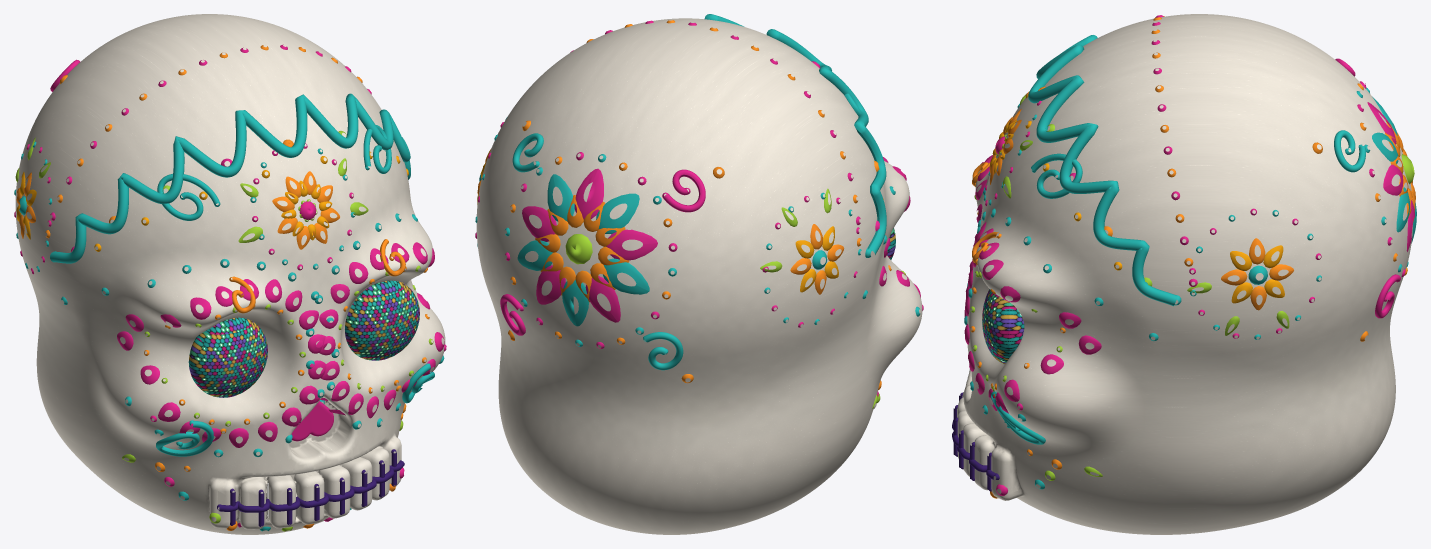
File: sugar_skull_hero.glb
3 renders of one model, left to right at view 1: azimuth 30°, elevation 25°; view 2: azimuth 150°, elevation 25°; view 3: azimuth 270°, elevation 25°, orthographic. The views are drawn at different scales.
Parts seen in each view (by area): view 1: sugar_skull_hero; view 2: sugar_skull_hero; view 3: sugar_skull_hero.
Boxes of the visible parts, box(x1,y1,x2,y2) form: sugar_skull_hero: box(14, 14, 446, 534); sugar_skull_hero: box(475, 14, 923, 534); sugar_skull_hero: box(952, 14, 1416, 534).
Size of the model in its own units: 0.1634 by 0.2 by 0.1802.
3 materials, 2 textured.
